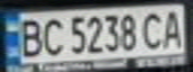2: (84, 11, 106, 54)
3: (103, 11, 124, 53)
5: (63, 12, 87, 55)
8: (118, 10, 142, 52)
A: (160, 7, 187, 48)
B: (15, 16, 45, 57)
C: (139, 9, 169, 51), (39, 15, 66, 56)
